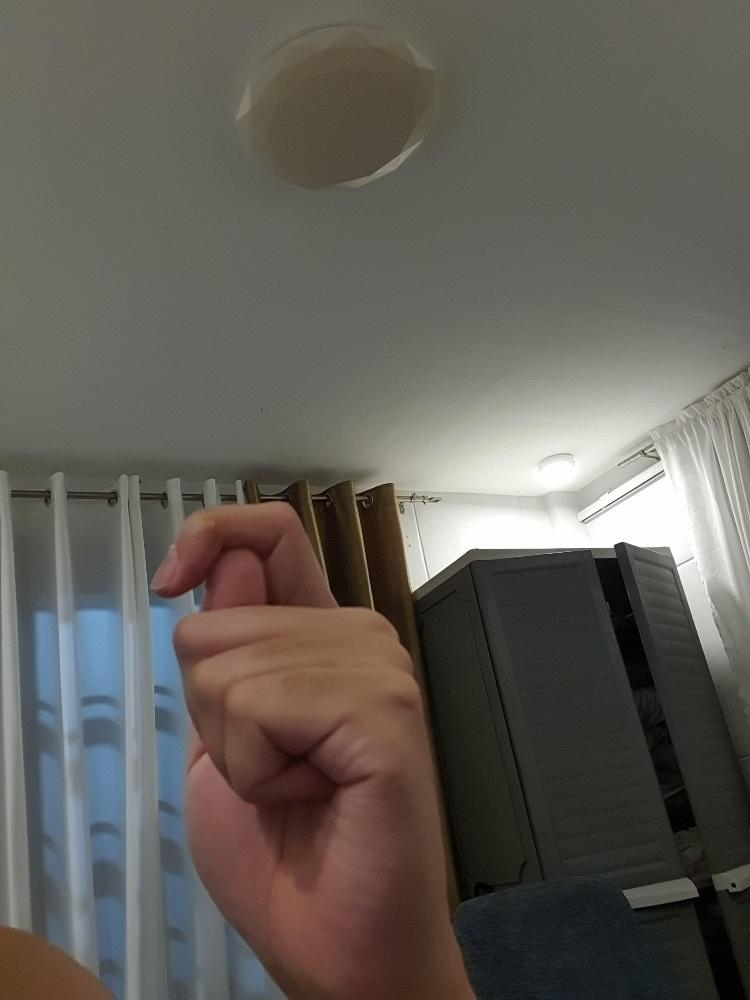t: (147, 495, 473, 999)
